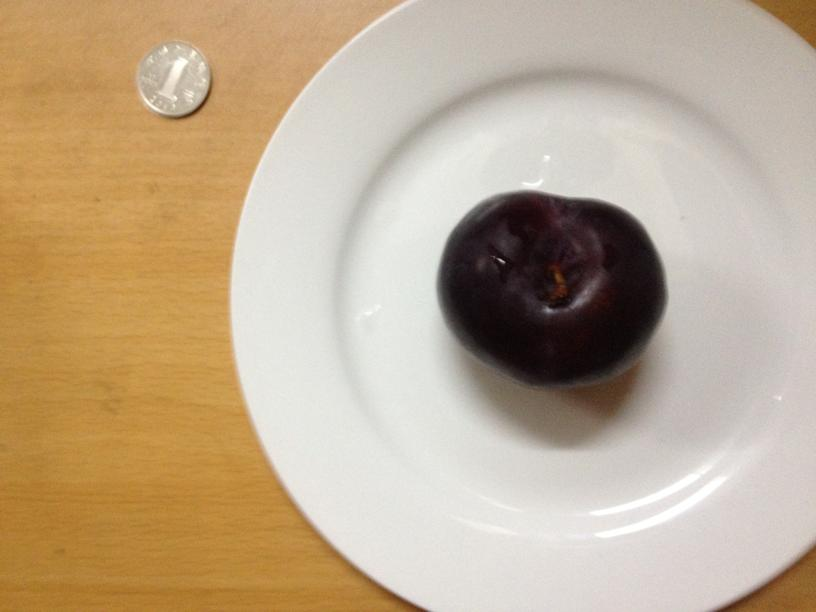coin: (130, 44, 213, 117)
plum: (442, 192, 664, 387)
